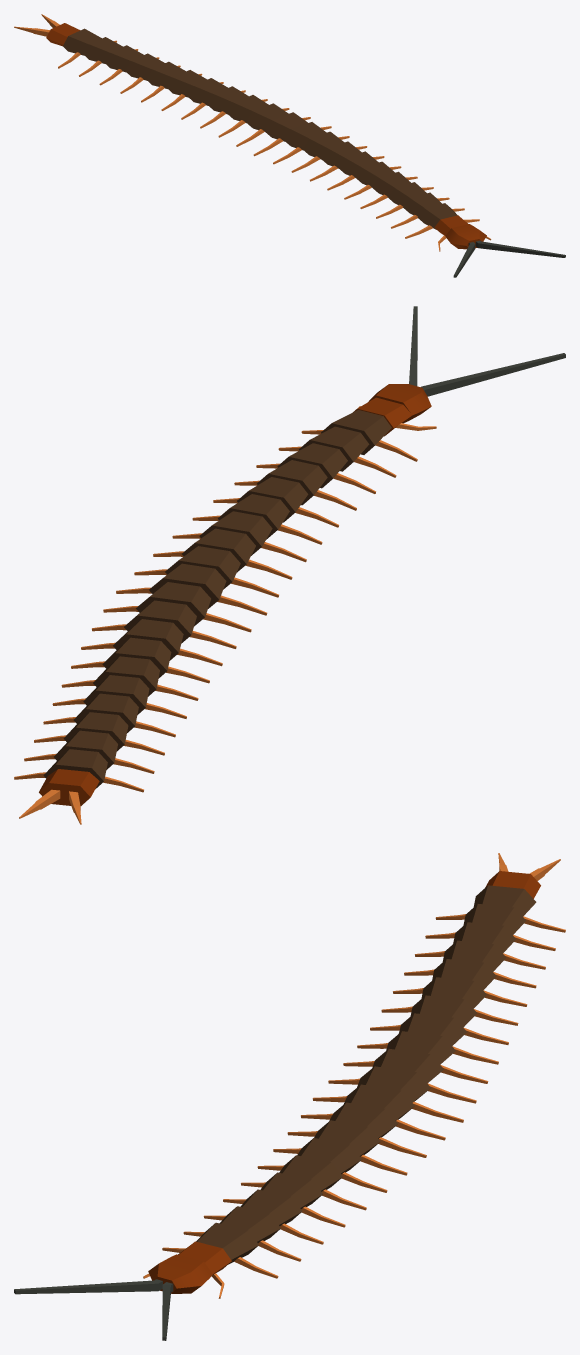
File: Mesh_Centipede.obj
The picture shows the model from 3 angles, top to bottom: view 1: azimuth 30°, elevation 25°; view 2: azimuth 150°, elevation 25°; view 3: azimuth 330°, elevation 25°; orthographic projection. The views are drawn at different scales.
Parts seen in each view (by area): view 1: Geo_Centipede Centipede_w_Deformer; view 2: Geo_Centipede Centipede_w_Deformer; view 3: Geo_Centipede Centipede_w_Deformer.
Boxes of the visible parts, box(x1,y1,x2,y2) form: Geo_Centipede Centipede_w_Deformer: box(14, 14, 565, 277); Geo_Centipede Centipede_w_Deformer: box(14, 306, 565, 824); Geo_Centipede Centipede_w_Deformer: box(14, 853, 565, 1340).
Bounding box in the file's own units: 16.29 × 2.14 × 64.77.
Materials: 1 (1 with a texture image).
